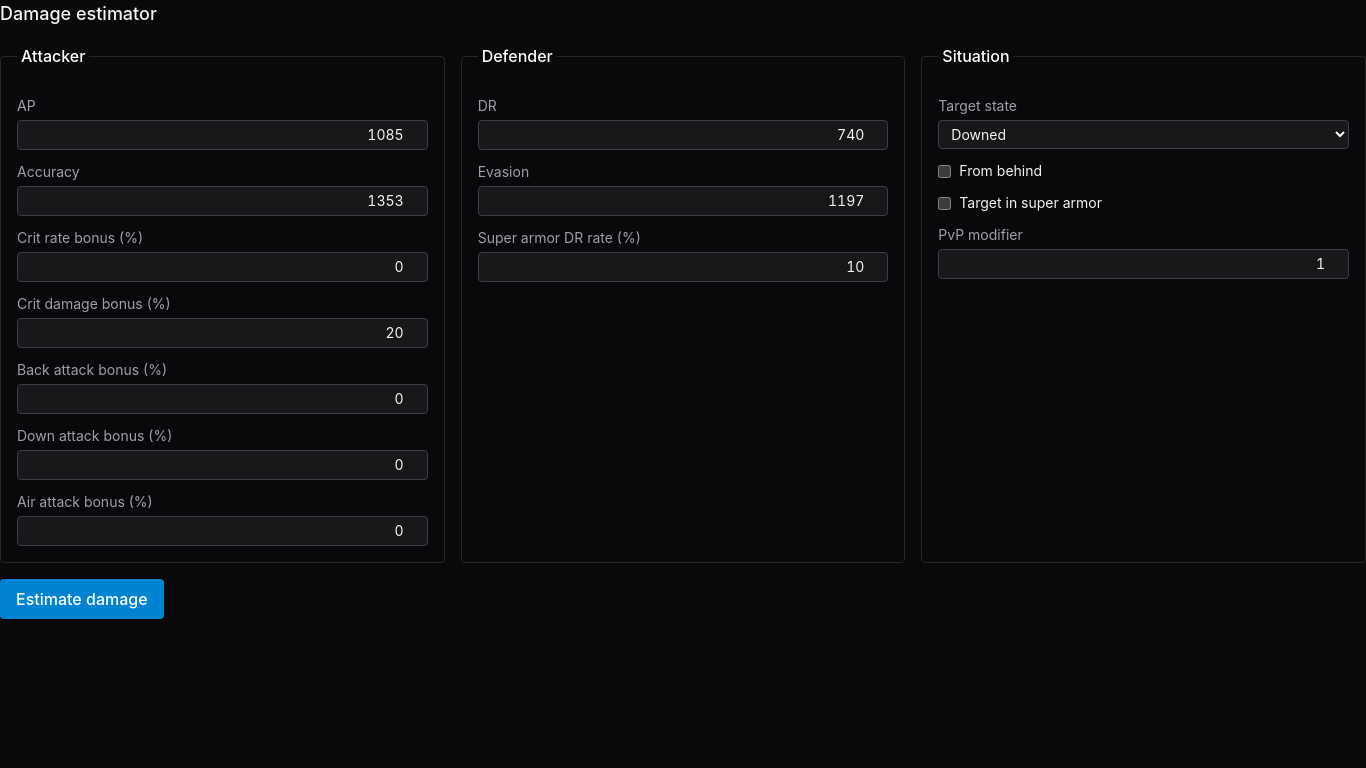
Test: DamageEstimator › says which excluded clauses are selector aliases
What coordinates should you click on to do the following:
click the button "Estimate damage"
I would click on:
 (82, 599)
Its box is [0,579,164,619].
(page scrolled)
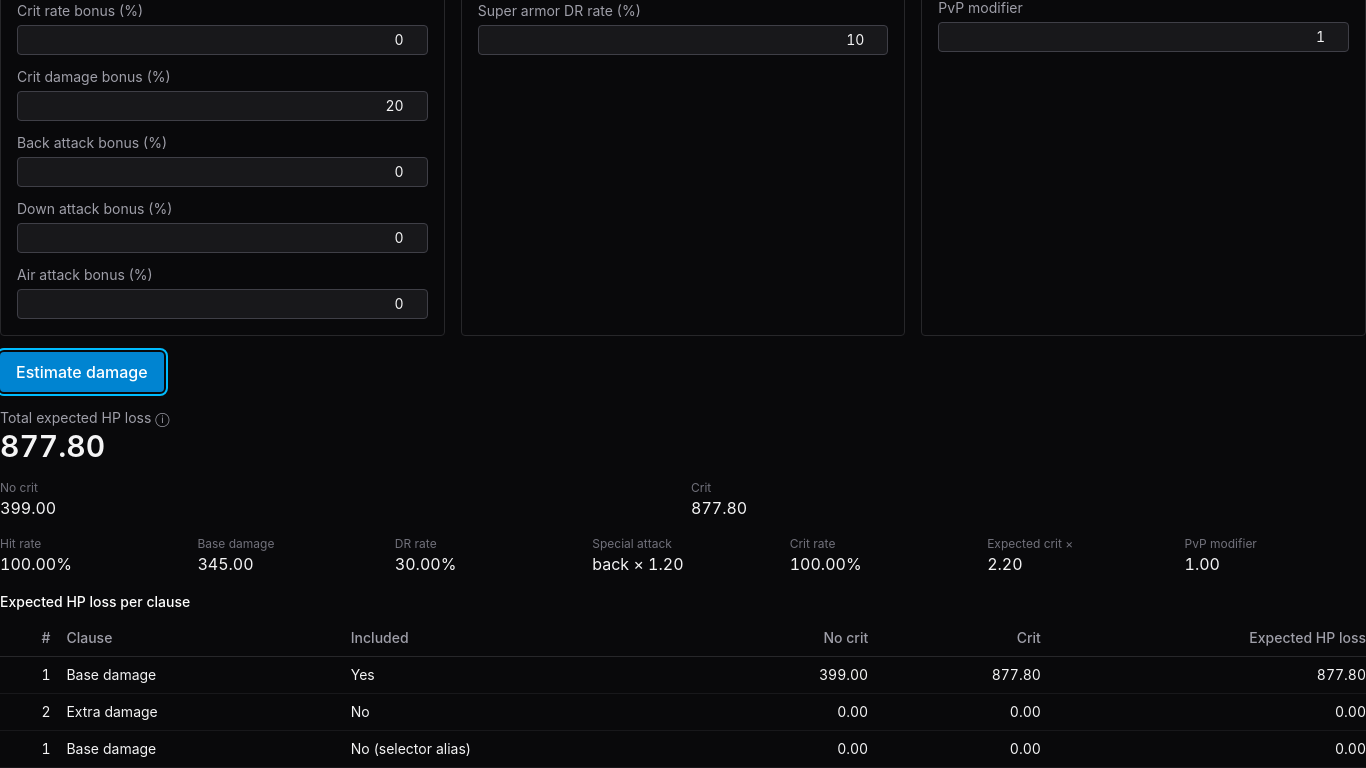
Check: the table "Expected HP loss per clause" is shown, box [0,592,1365,767]
